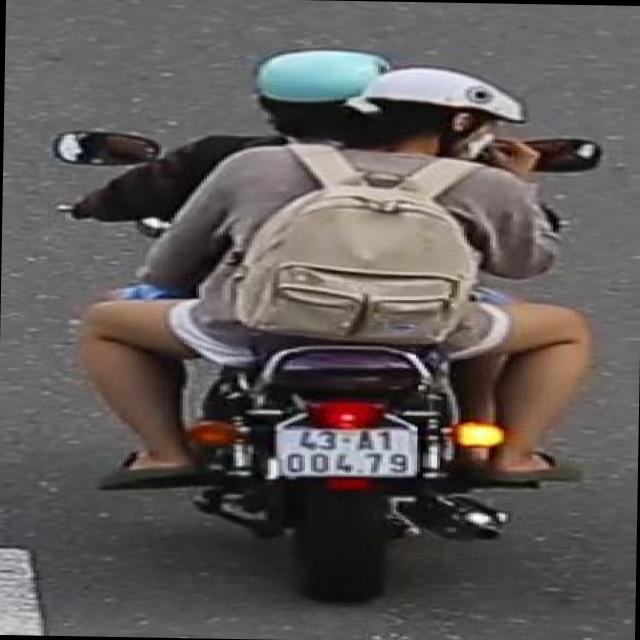LP: (267, 416, 426, 482)
helmet: (370, 64, 527, 167), (247, 43, 395, 146)
